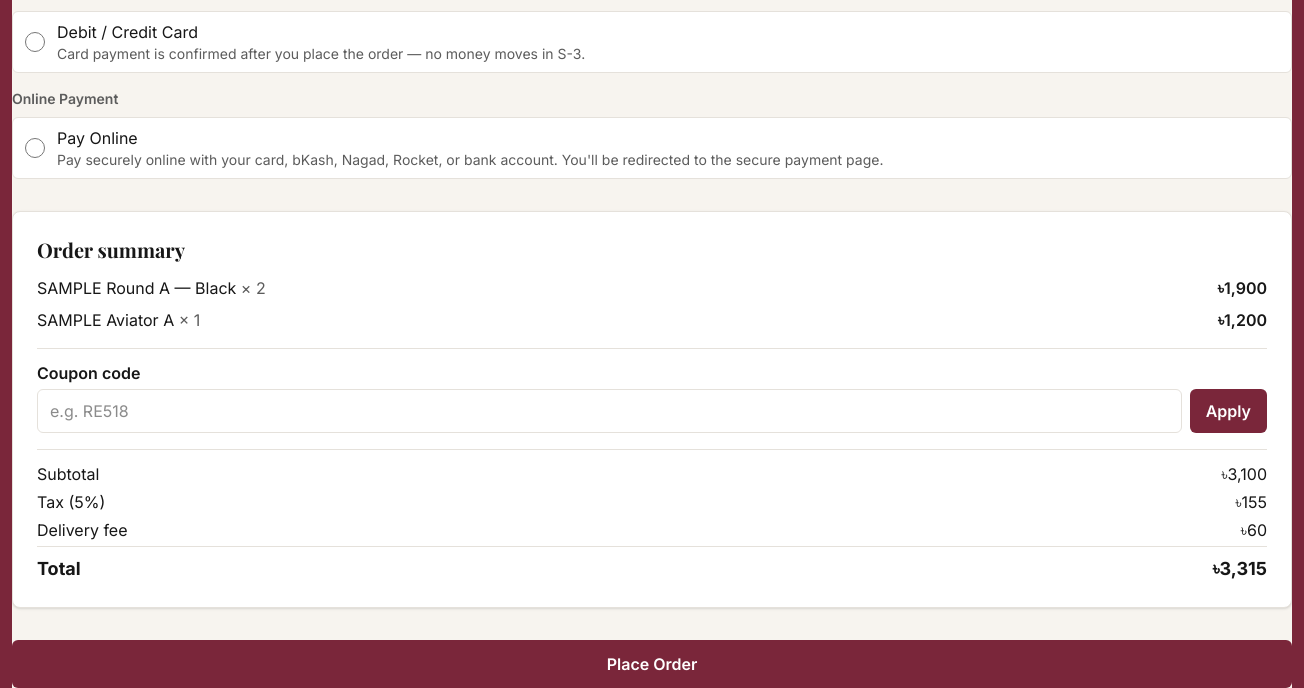
it: CheckoutForm › removing an applied coupon restores the undiscounted totals
(page scrolled)
Type "RE518" into the field labelled "Coupon code" at (609, 411), box x1=37 y1=389 x2=1182 y2=433
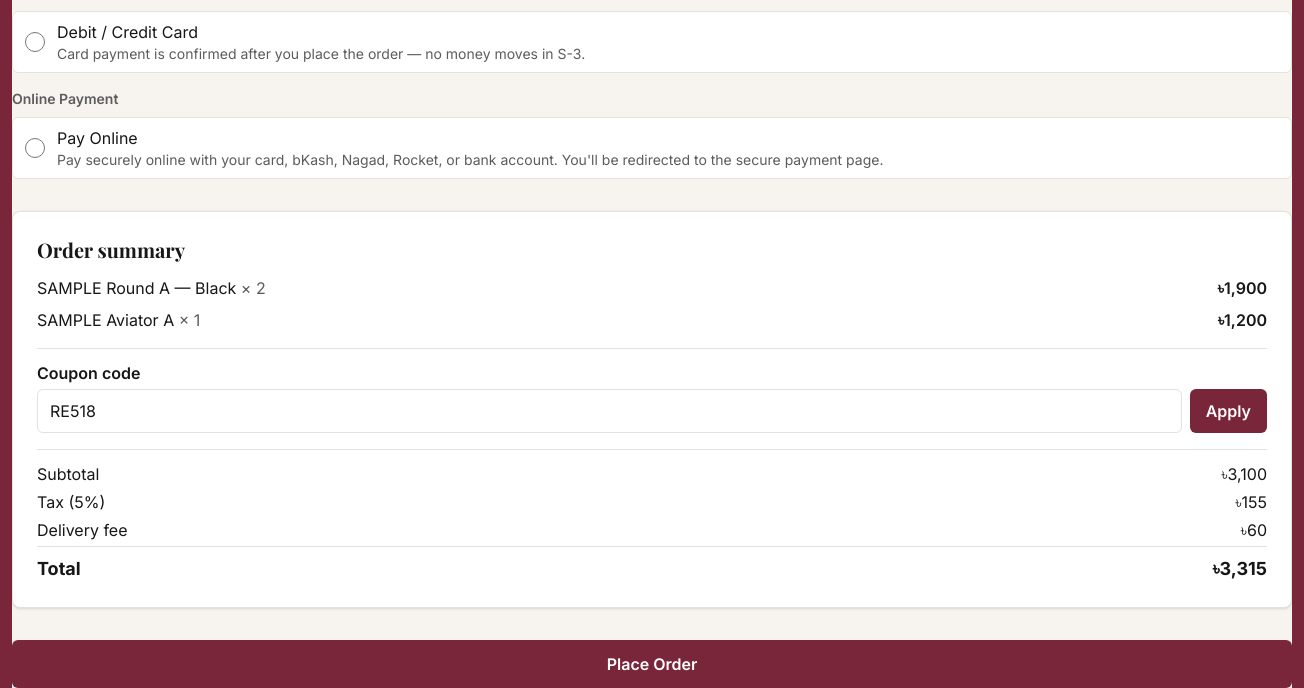
Click the button with aria-label "Apply coupon code" at (1228, 411), box x1=1190 y1=389 x2=1267 y2=433
(page scrolled)
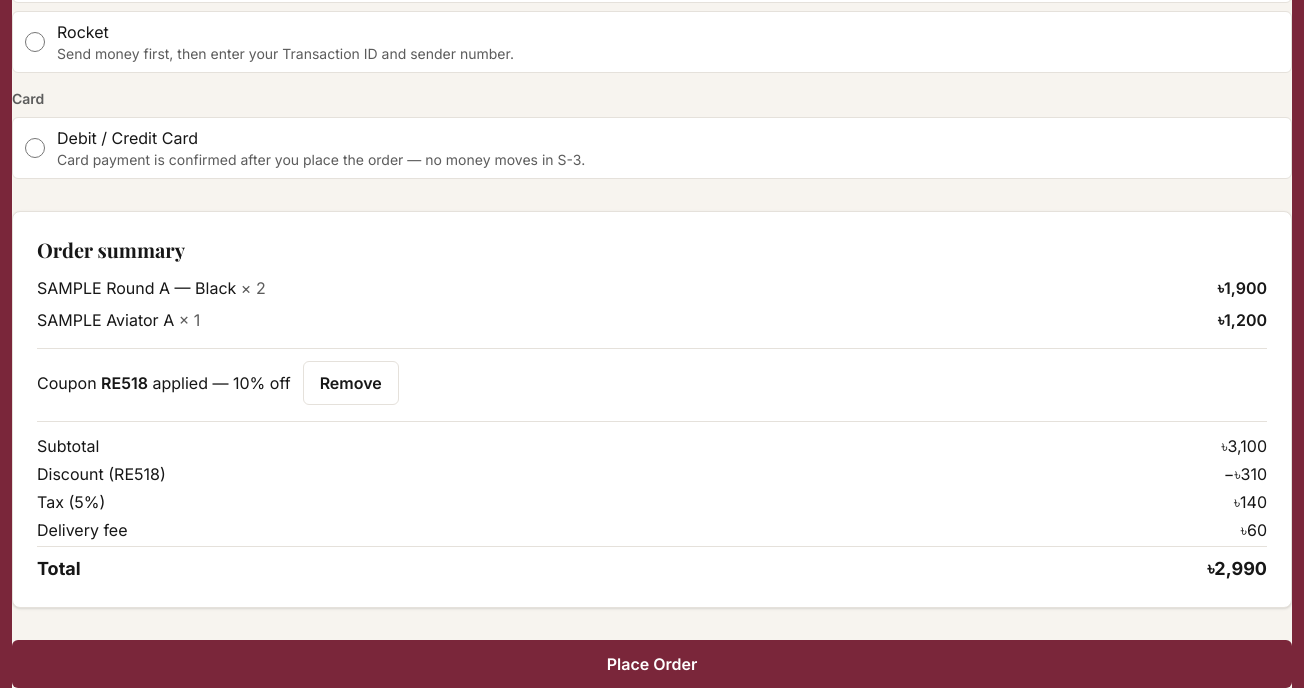
Expected: the text "Discount (RE518)" is shown, x1=37 y1=462 x2=166 y2=486
Click the button with aria-label "Remove coupon code" at (351, 383), box x1=303 y1=361 x2=399 y2=405
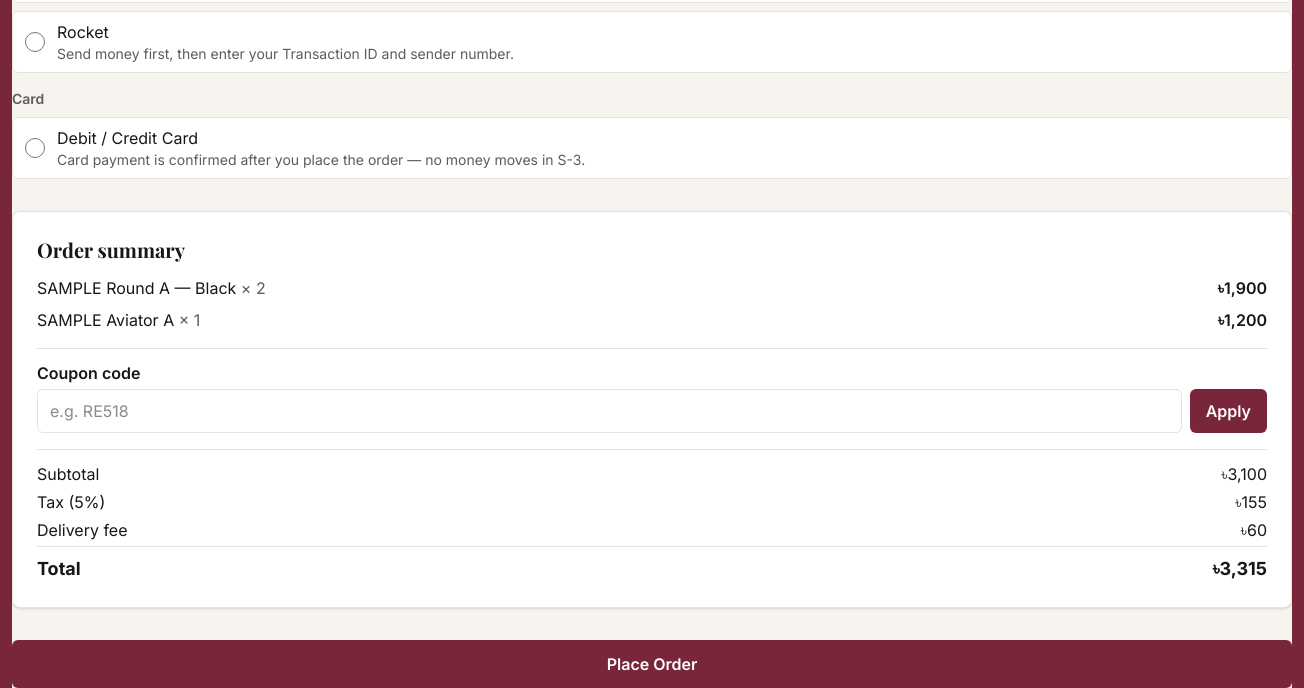
Expected: the text "Discount (RE518)" is gone
Expected: the text "৳3,315" is shown, x1=1213 y1=555 x2=1267 y2=583
Expected: the field labelled "Coupon code" is empty, x1=37 y1=389 x2=1182 y2=433
